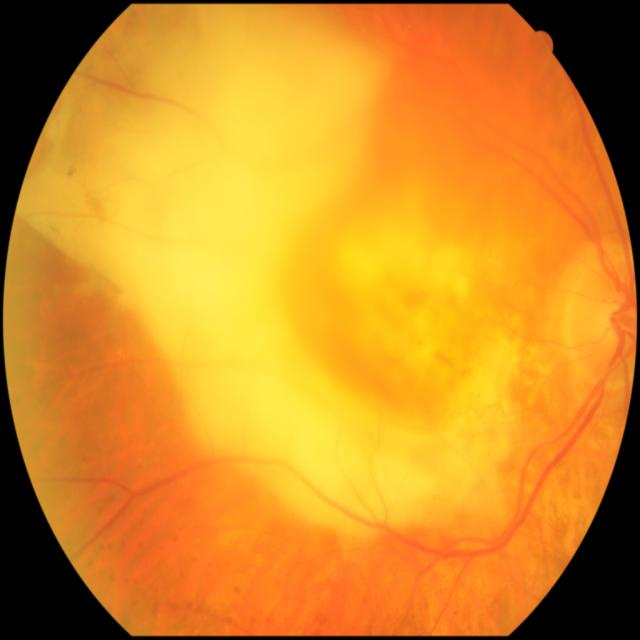OC: (599, 300, 623, 345)
OD: (571, 257, 640, 384)
